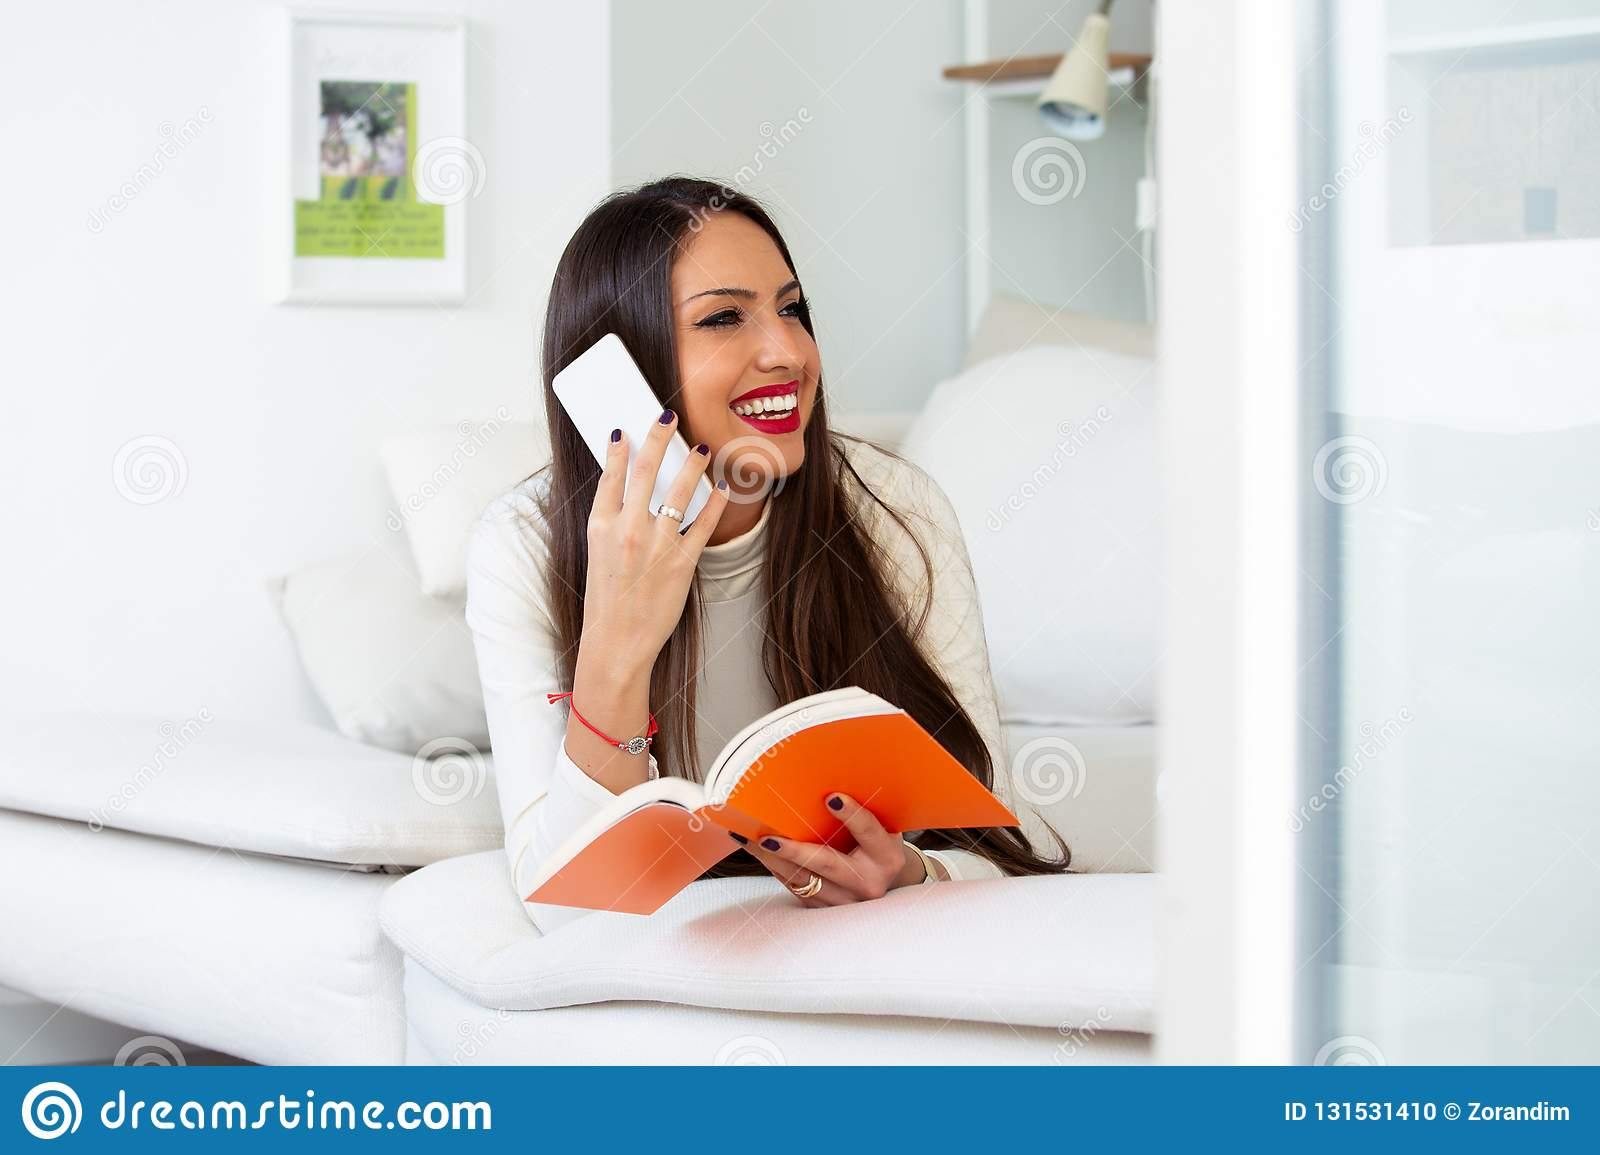phone: (553, 332, 720, 532)
talk: (549, 274, 819, 688)
